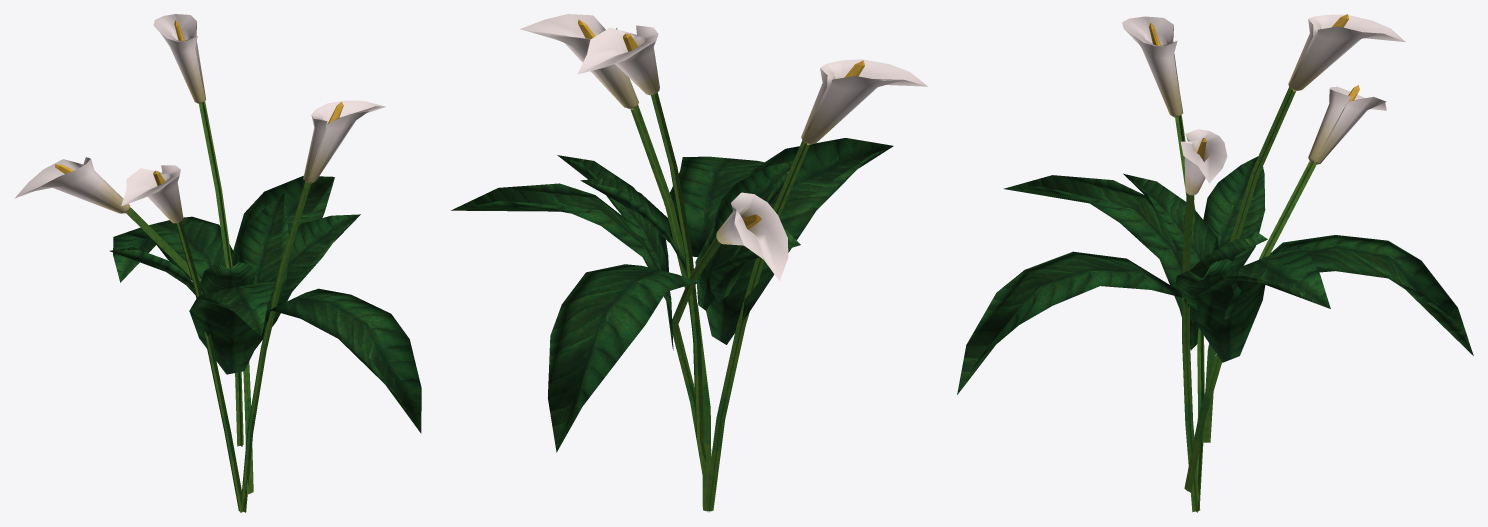
The model's file is vase01_flowers.DAE.
3 views of the same model, side by side, from view 1: azimuth 30°, elevation 25°; view 2: azimuth 150°, elevation 25°; view 3: azimuth 270°, elevation 25° (orthographic). The views are drawn at different scales.
Parts seen in each view (by area): view 1: Plane002; view 2: Plane002; view 3: Plane002.
Boxes of the visible parts, <box> form: Plane002: <box>14,14,421,512</box>; Plane002: <box>451,14,927,512</box>; Plane002: <box>957,14,1473,512</box>.
Size of the model in its own units: 0.4761 by 0.6631 by 0.6244.
